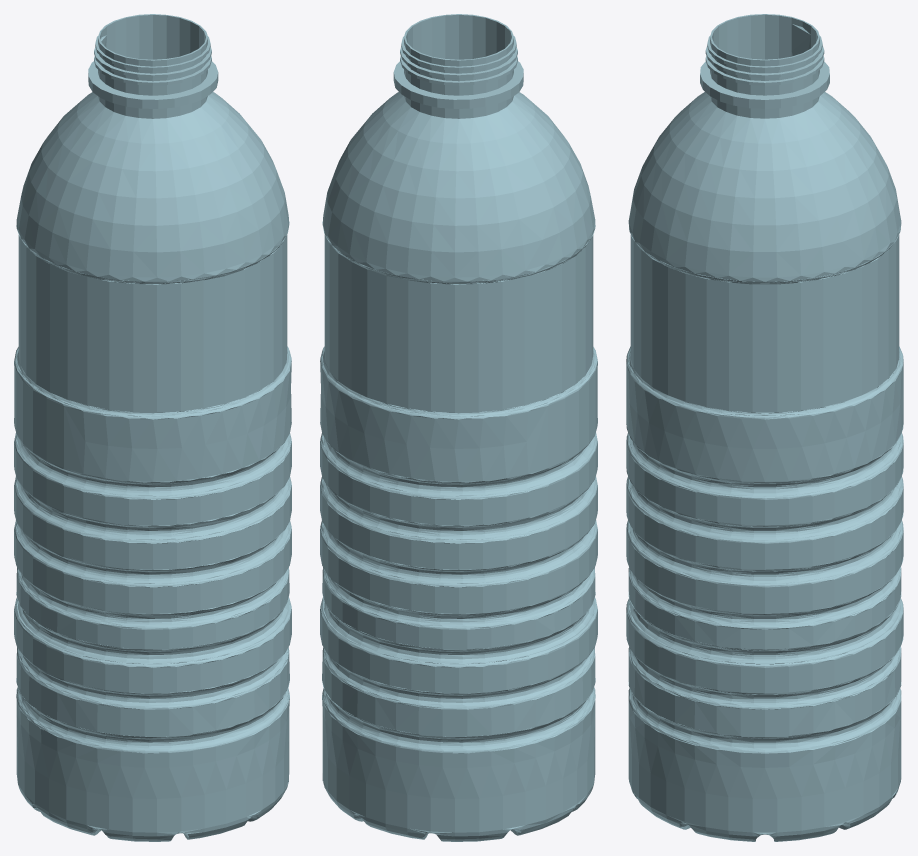
Rendered from bottle_1.glb.
3 views of the same model, side by side, from view 1: azimuth 30°, elevation 25°; view 2: azimuth 150°, elevation 25°; view 3: azimuth 270°, elevation 25° (orthographic).
Visible parts, largest first — view 1: Mesh_Mesh_head_geo.001_lambert2SG.001; view 2: Mesh_Mesh_head_geo.001_lambert2SG.001; view 3: Mesh_Mesh_head_geo.001_lambert2SG.001.
Part boxes in pixels (box(x1,y1,x2,y2)): Mesh_Mesh_head_geo.001_lambert2SG.001: box(14, 14, 291, 841); Mesh_Mesh_head_geo.001_lambert2SG.001: box(320, 14, 597, 841); Mesh_Mesh_head_geo.001_lambert2SG.001: box(626, 14, 903, 841).
Bounding box in the file's own units: 0.5 × 1.5 × 0.5.
